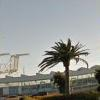Palm tree: (37, 30, 91, 99)
